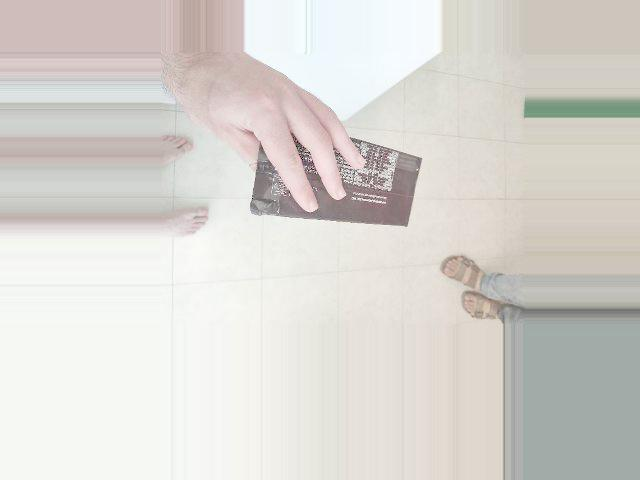chocolate: (325, 152, 433, 335)
